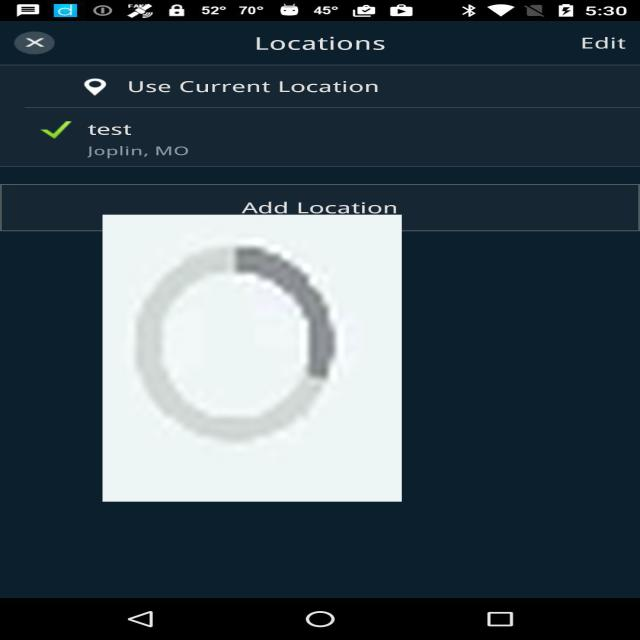misdirection: (102, 214, 402, 502)
